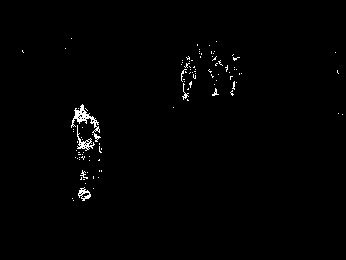person: (72, 103, 103, 204), (181, 55, 196, 104)
